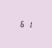one: (25, 19, 30, 28)
six: (19, 19, 24, 27)
